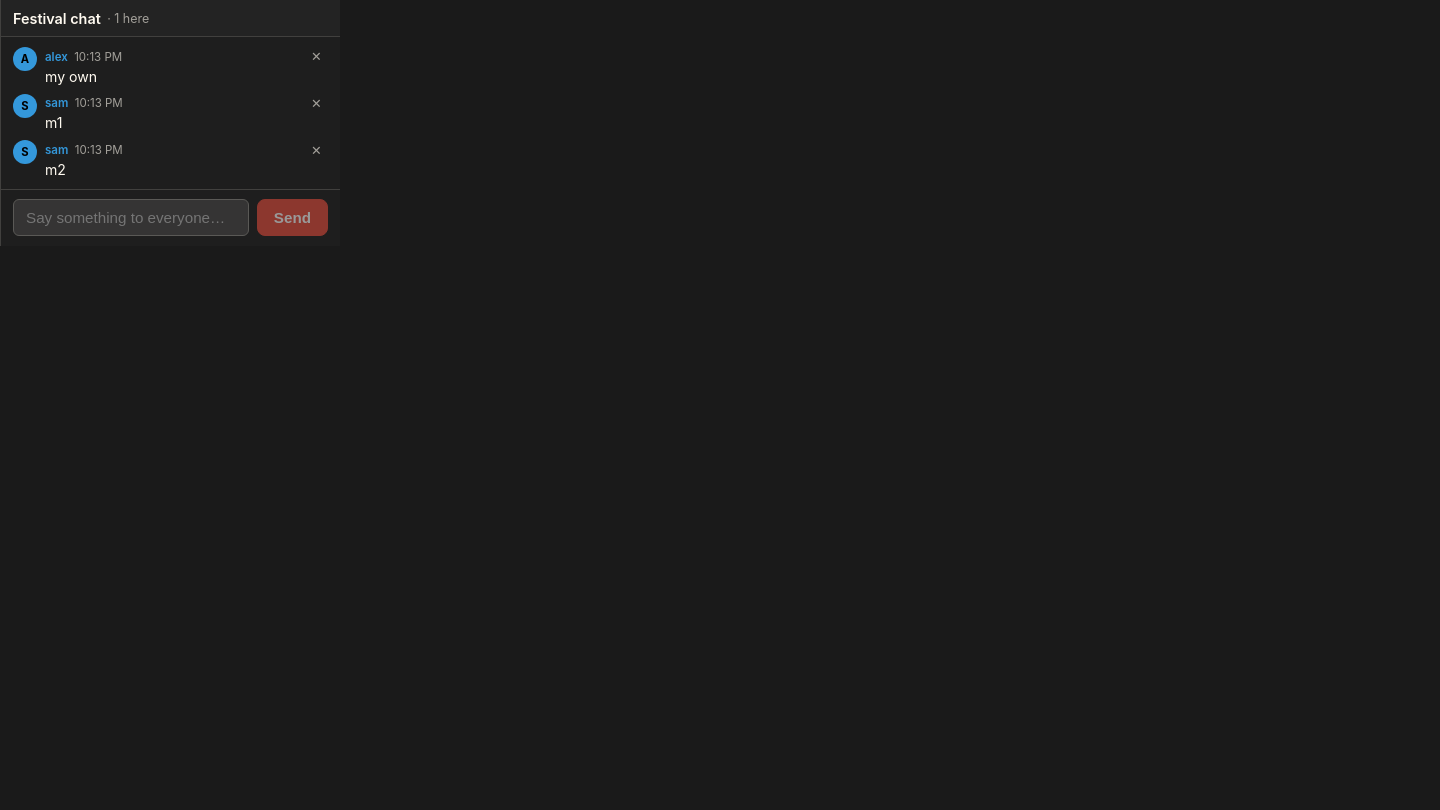
it: FestivalChatPanel delete › my own Message keeps the plain confirm copy, even as Admin
Click the button named "Delete message".
click(316, 57)  # box [304,47,328,67]
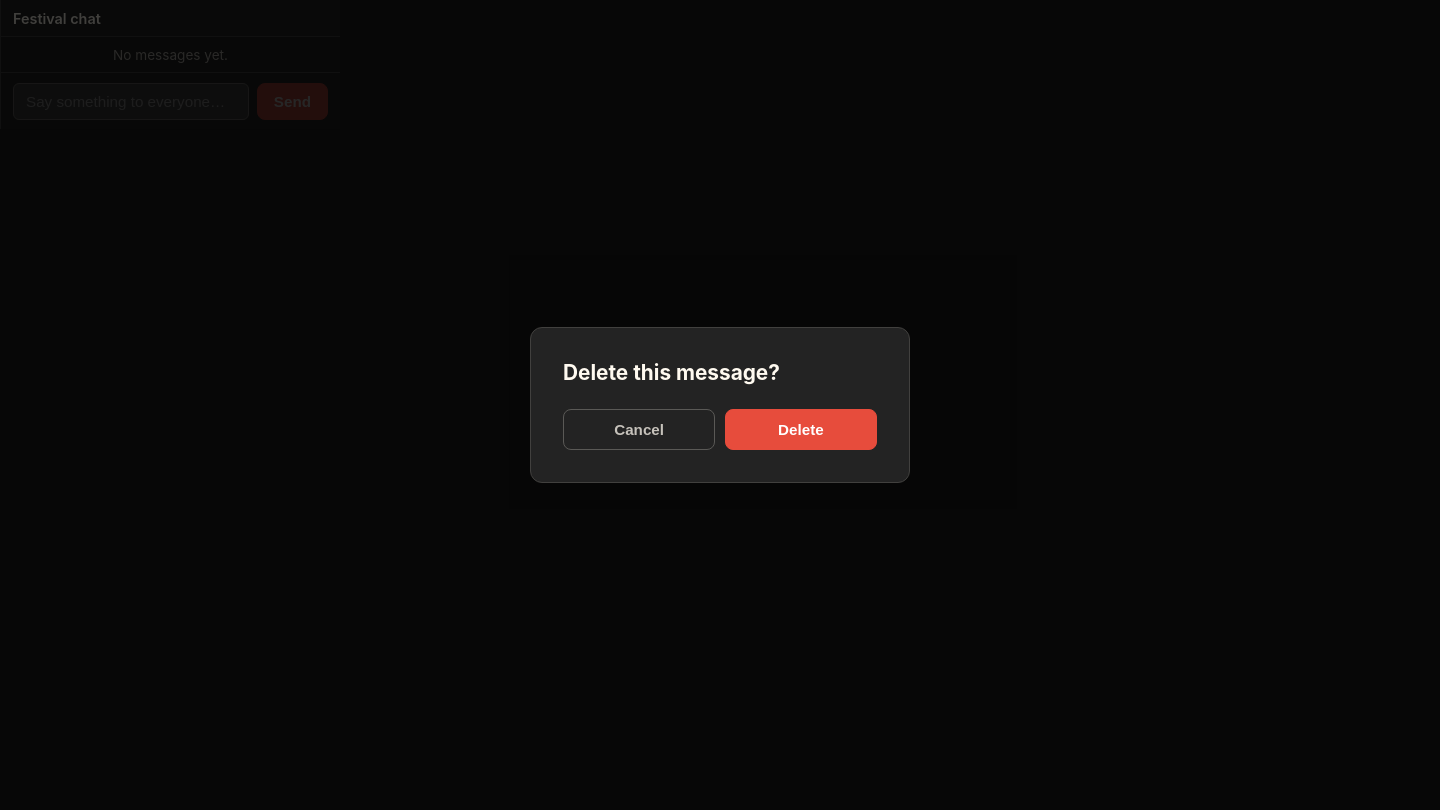
Expected: the dialog "Delete this message?" is shown, [530,327,910,483]
